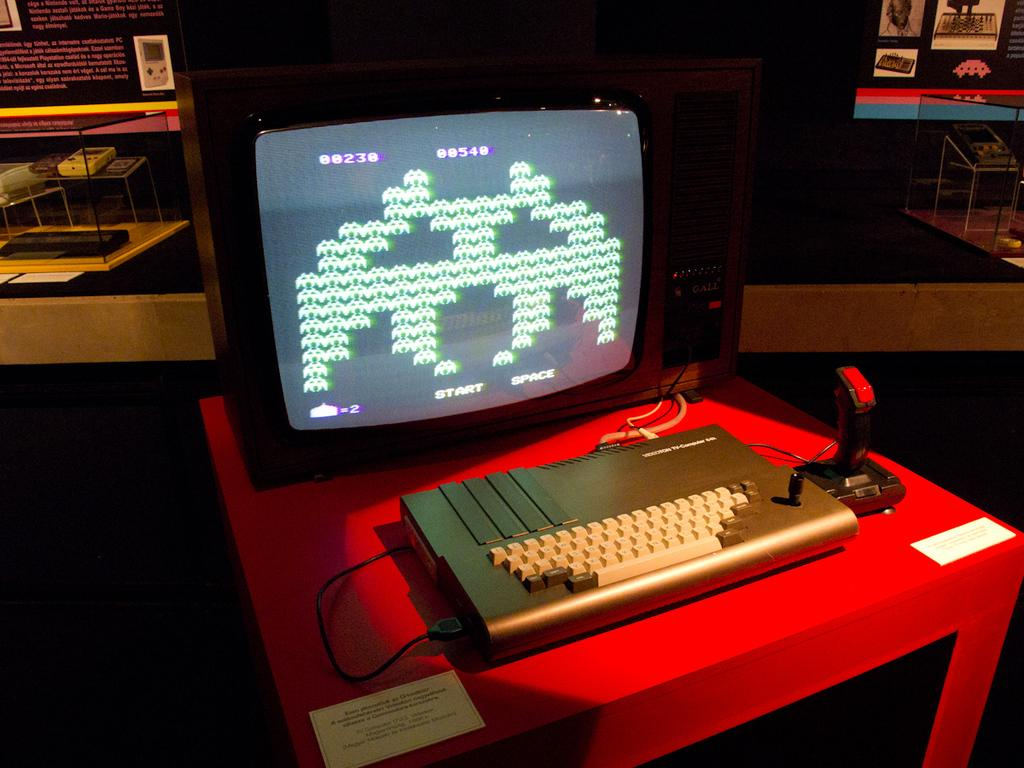Computer-keyboard: (402, 425, 863, 667)
Computer-monitor: (171, 68, 744, 497)
